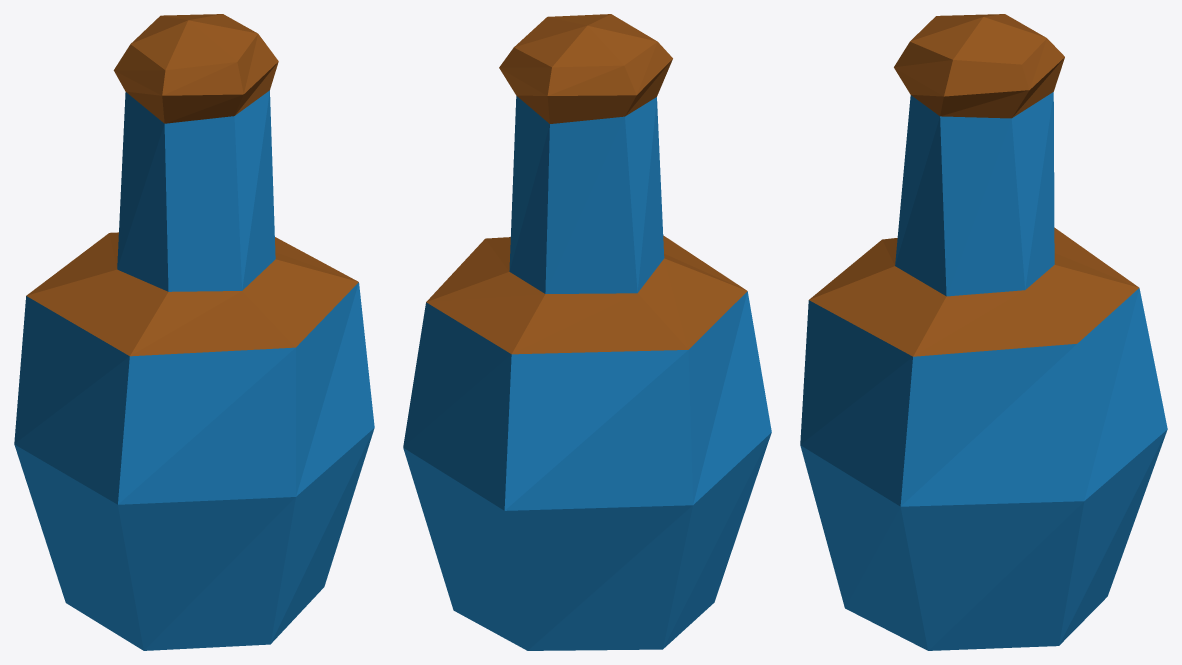
The model's file is RG-Dungeon_Flask-04.fbx.
The picture shows the model from 3 angles, left to right: view 1: azimuth 30°, elevation 25°; view 2: azimuth 150°, elevation 25°; view 3: azimuth 270°, elevation 25°; orthographic projection.
Parts seen in each view (by area): view 1: RG-Dungeon_Flask-04; view 2: RG-Dungeon_Flask-04; view 3: RG-Dungeon_Flask-04.
Boxes of the visible parts, x1,y1,x2,y2 form: RG-Dungeon_Flask-04: (14, 14, 374, 650); RG-Dungeon_Flask-04: (403, 14, 771, 650); RG-Dungeon_Flask-04: (800, 14, 1167, 650).
Size of the model in its own units: 0.9642 by 1.88 by 1.06.
